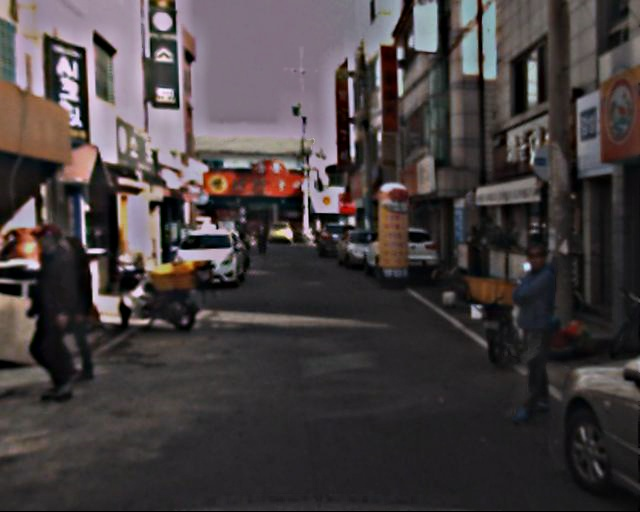person: (495, 240, 573, 419), (34, 225, 110, 399), (254, 217, 271, 259)
